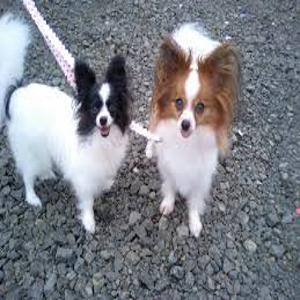yell: (144, 22, 240, 238)
